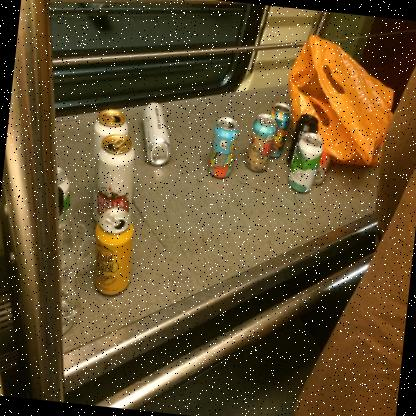Clear plastic bottle: (58, 186, 77, 334)
Drink can: (92, 109, 127, 221), (93, 207, 133, 295), (96, 134, 134, 221), (287, 132, 322, 192), (142, 102, 171, 166), (208, 116, 238, 177), (245, 113, 276, 172), (286, 114, 318, 167), (269, 102, 291, 157), (56, 165, 70, 212), (312, 151, 331, 184)
Pop tab: (106, 212, 119, 226), (112, 136, 125, 147), (104, 113, 115, 121), (309, 135, 318, 143), (314, 170, 321, 179), (221, 120, 230, 126), (263, 117, 272, 122)
Single-use carrier bag: (288, 33, 394, 167)
